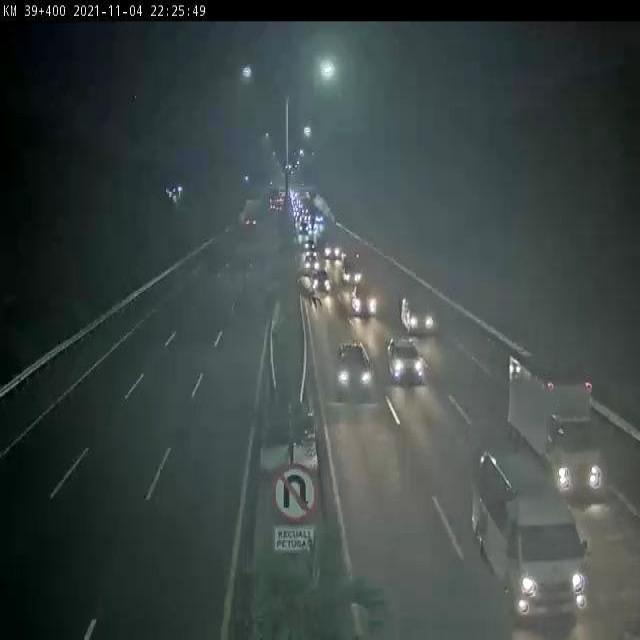car: (480, 451, 589, 620), (386, 338, 426, 391), (336, 343, 374, 396), (402, 296, 438, 339), (351, 288, 379, 321), (343, 256, 366, 288)
truck-m-: (505, 357, 608, 507)
